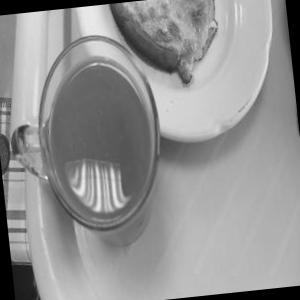coffee: (22, 16, 176, 248)
